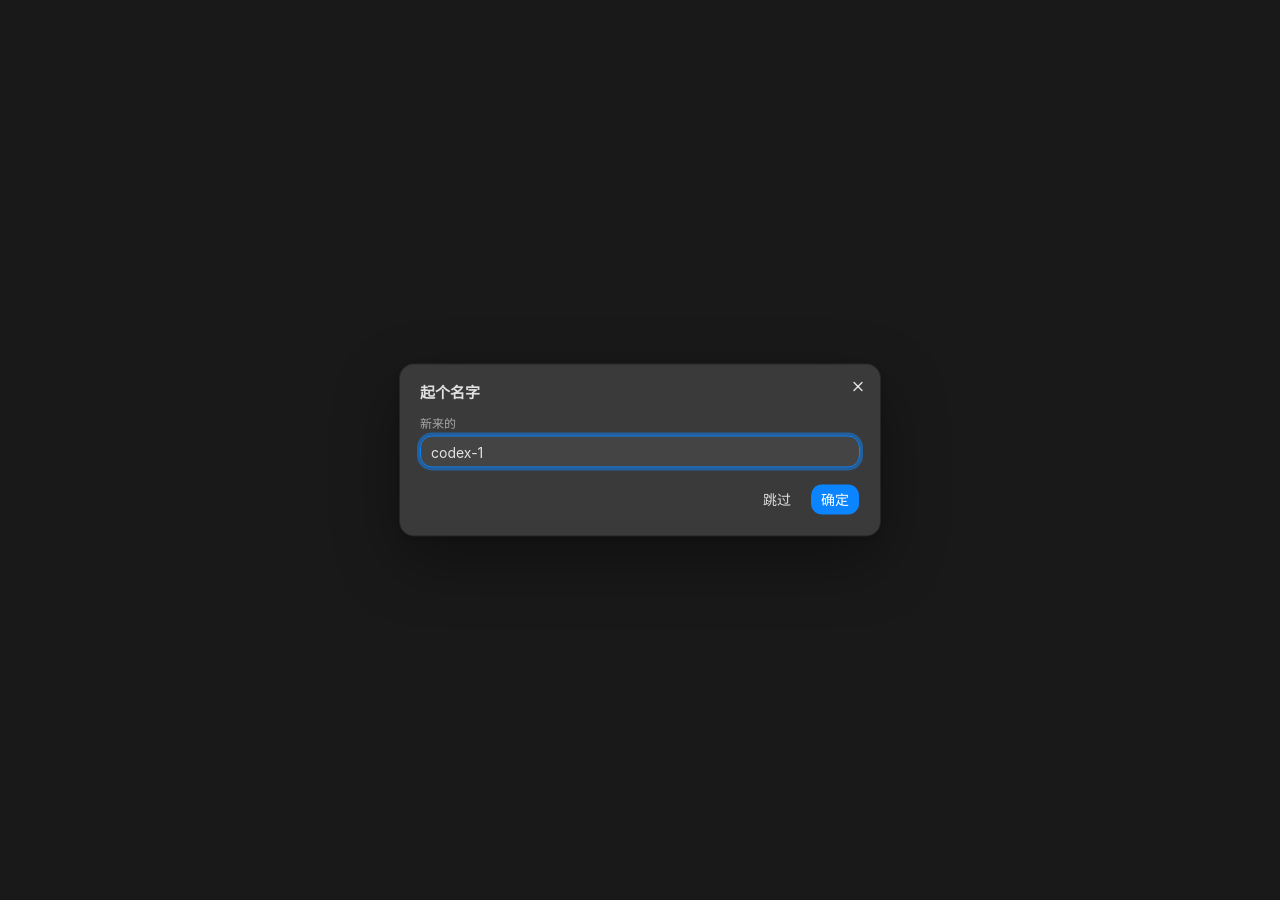
Scenario: 起名对话框 › 撞名当场说是谁，并且不让确认
Replace the text in the field labelled "新来的" with "reviewer" at coordinates (640, 452), box [420,436,860,468]
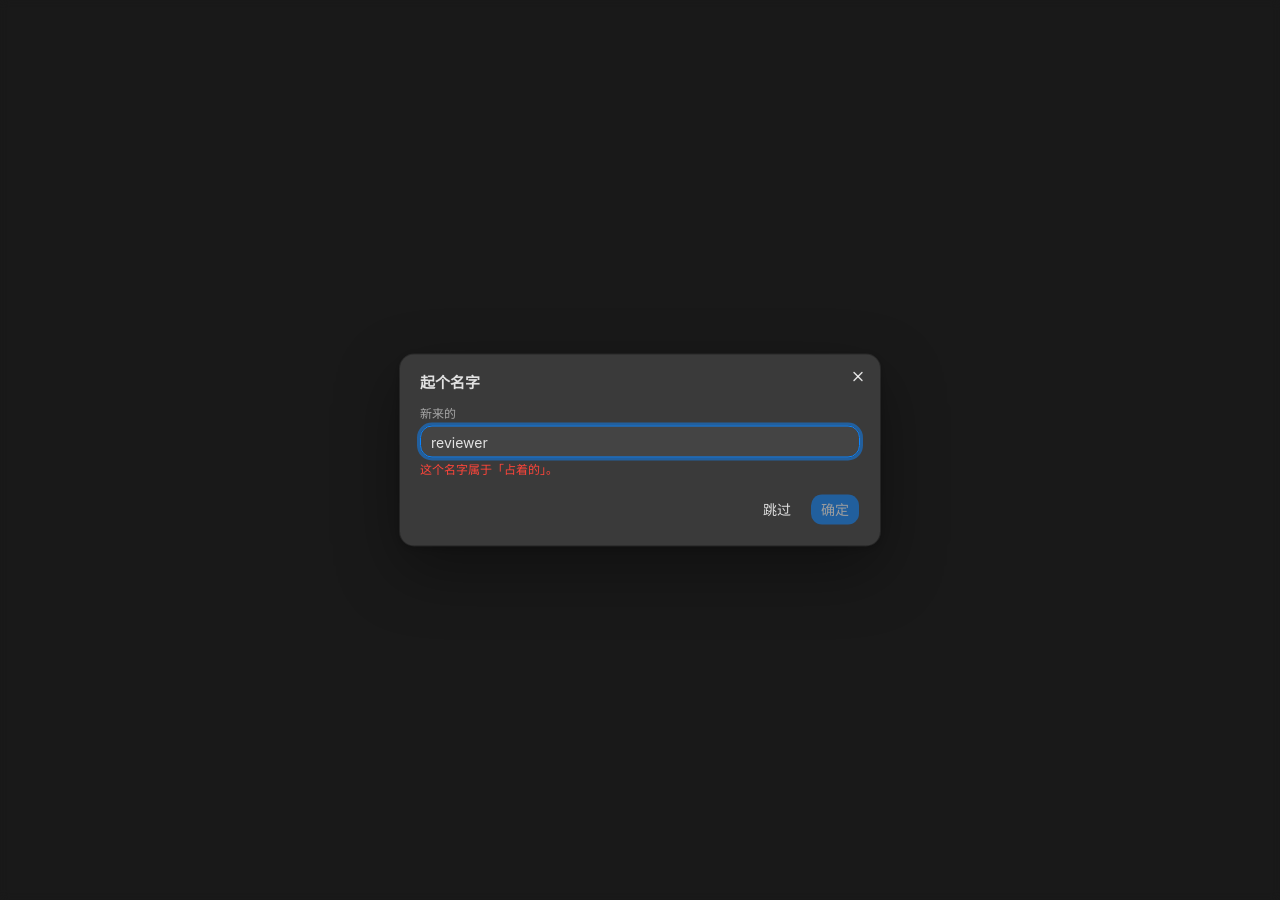
expect the text "这个名字属于「占着的」。" is shown: met, box [420,462,558,476]
expect the button "确定" is disabled: met, box [810,494,860,526]
